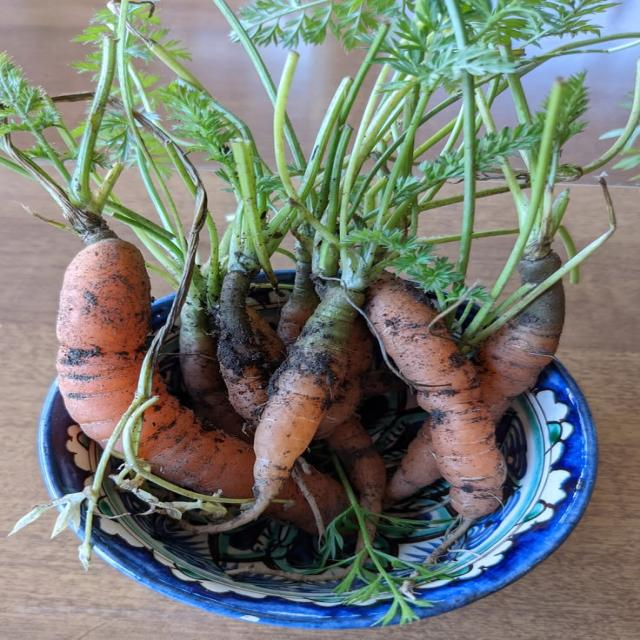carrot: (203, 286, 363, 532), (366, 277, 506, 518), (58, 231, 150, 443), (474, 280, 565, 420), (216, 271, 285, 424), (180, 296, 245, 438), (327, 416, 386, 539), (315, 317, 373, 439), (385, 418, 442, 503), (277, 241, 319, 344)
